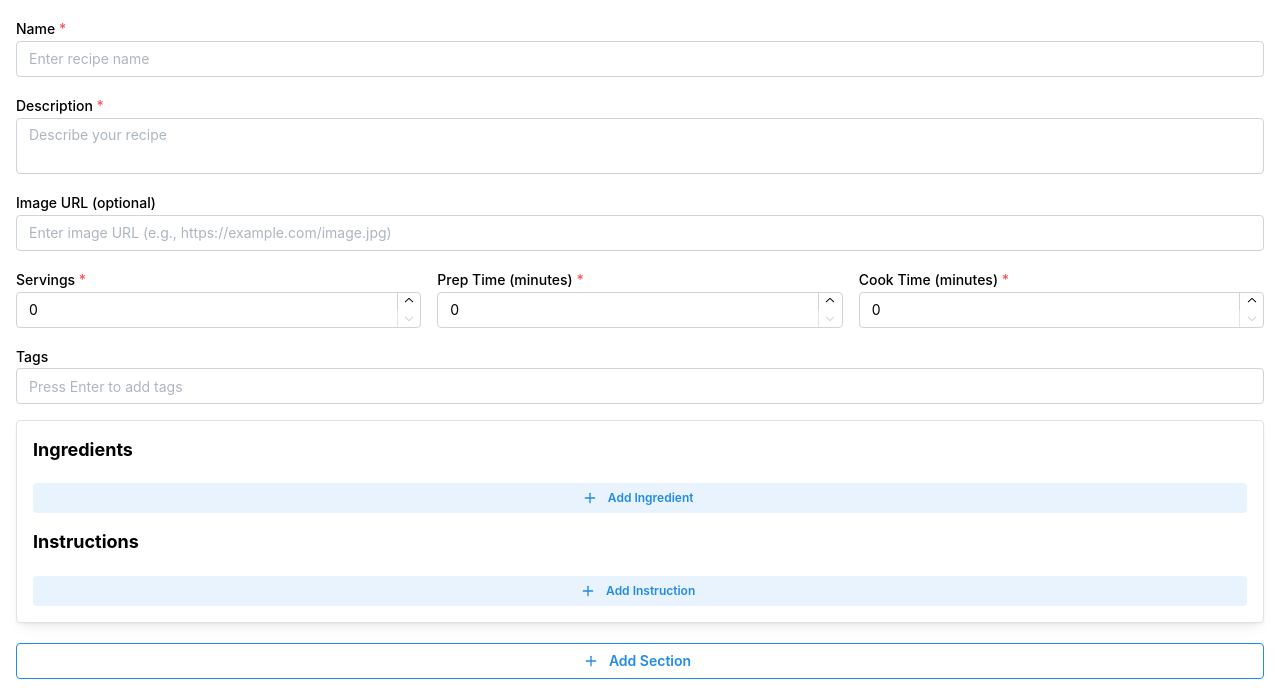
Scenario: RecipeForm - Sections Structure › Section management › should add a new section when "Add Section" is clicked
Check: the field with placeholder "e.g., BROTH, ASSEMBLY" is not shown
Click "Add Section"
Click the button "Add Section" at x=640, y=660, box [16,642,1264,678]
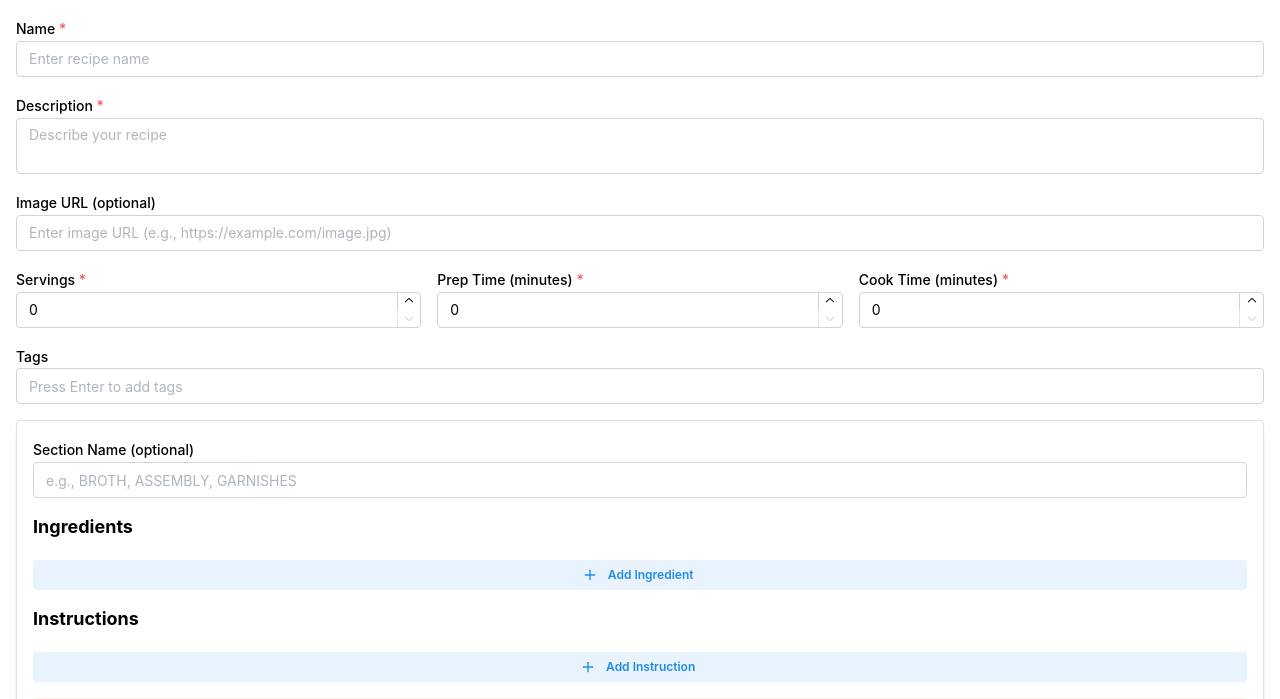
Check: the number of fields with placeholder "e.g., BROTH, ASSEMBLY, GARNISHES" is 2
